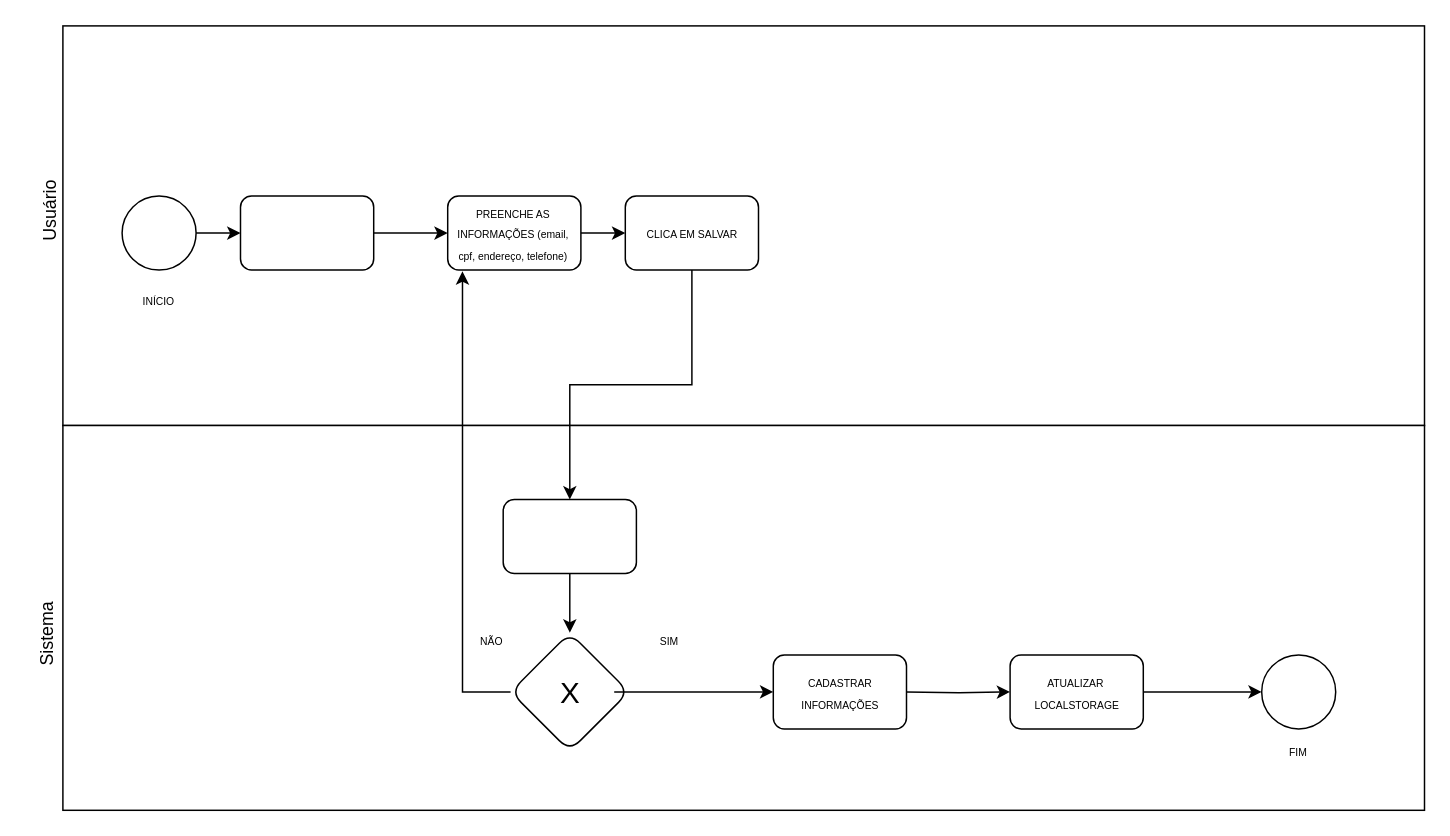
This 1450x836 diagram has some shape labels left out. The centre of each missing label's shape, as x and y in pixels:
CLICA EM "NOVO CADASTRO": (x=306, y=232)
VALIDA AS INFORMAÇÕES?: (x=569, y=536)
